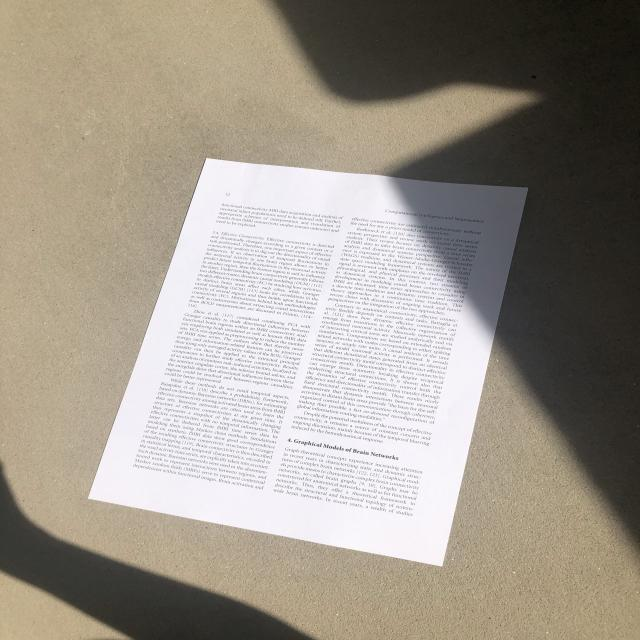document: (90, 159, 527, 565)
